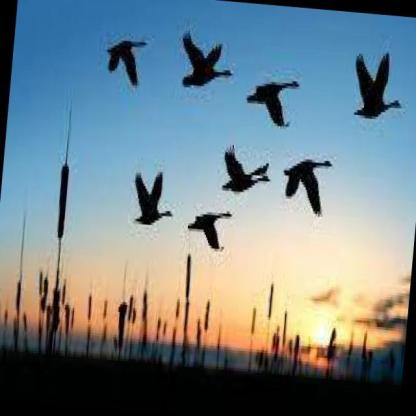bird: (349, 49, 408, 124), (176, 26, 238, 94), (278, 154, 336, 223), (243, 72, 303, 130), (219, 139, 276, 199), (127, 165, 179, 230), (103, 33, 150, 90), (184, 203, 235, 253)
